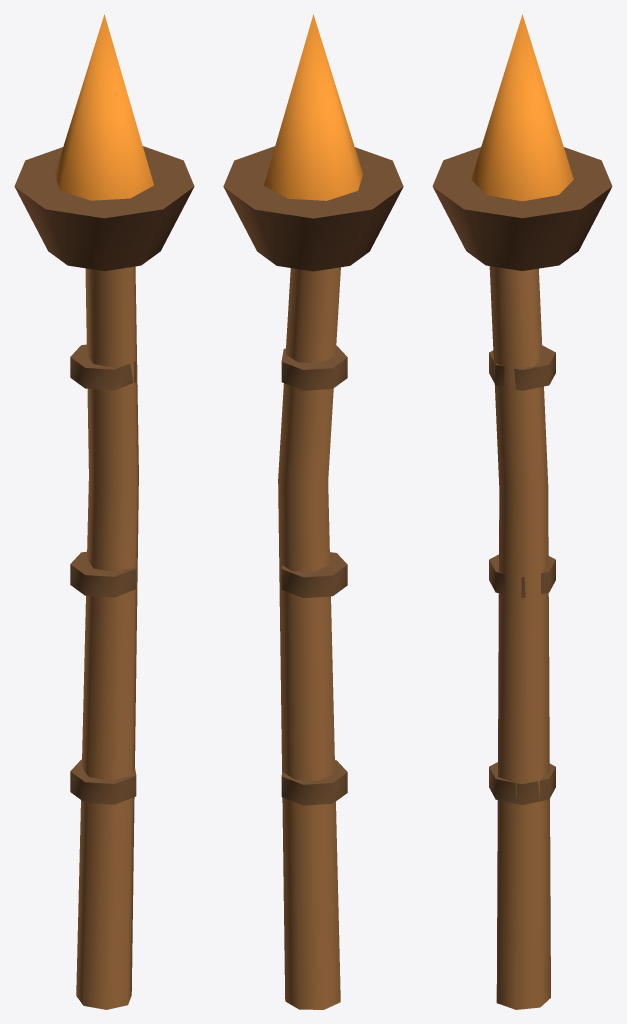
The model's file is tiki_torch.obj.
The picture shows the model from 3 angles, left to right: view 1: azimuth 30°, elevation 25°; view 2: azimuth 150°, elevation 25°; view 3: azimuth 270°, elevation 25°; orthographic projection.
Parts seen in each view (by area): view 1: tiki_torch_wood_mid, tiki_torch_trunk_dark, tiki_torch_flame, tiki_torch_wood_dark; view 2: tiki_torch_wood_mid, tiki_torch_trunk_dark, tiki_torch_flame, tiki_torch_wood_dark; view 3: tiki_torch_wood_mid, tiki_torch_flame, tiki_torch_trunk_dark, tiki_torch_wood_dark.
Part boxes in pixels (x1,y1,x2,y2): tiki_torch_wood_mid: (76, 266, 138, 1009); tiki_torch_trunk_dark: (14, 146, 194, 804); tiki_torch_flame: (55, 14, 153, 200); tiki_torch_wood_dark: (15, 187, 193, 271); tiki_torch_wood_mid: (278, 267, 340, 1009); tiki_torch_trunk_dark: (223, 146, 403, 805); tiki_torch_flame: (264, 14, 362, 200); tiki_torch_wood_dark: (223, 187, 403, 271); tiki_torch_wood_mid: (489, 266, 550, 1009); tiki_torch_flame: (471, 14, 573, 201); tiki_torch_trunk_dark: (432, 147, 612, 804); tiki_torch_wood_dark: (433, 187, 611, 270).
Size of the model in its own units: 0.3104 by 1.9 by 0.3152.
